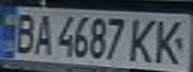4: (54, 11, 75, 57)
6: (72, 12, 90, 59)
7: (103, 15, 130, 62)
8: (87, 14, 109, 61)
A: (30, 10, 57, 56)
B: (6, 10, 39, 55)
K: (148, 16, 193, 65), (124, 15, 163, 64)
